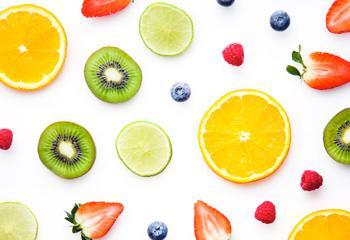apple: (221, 42, 243, 66)
